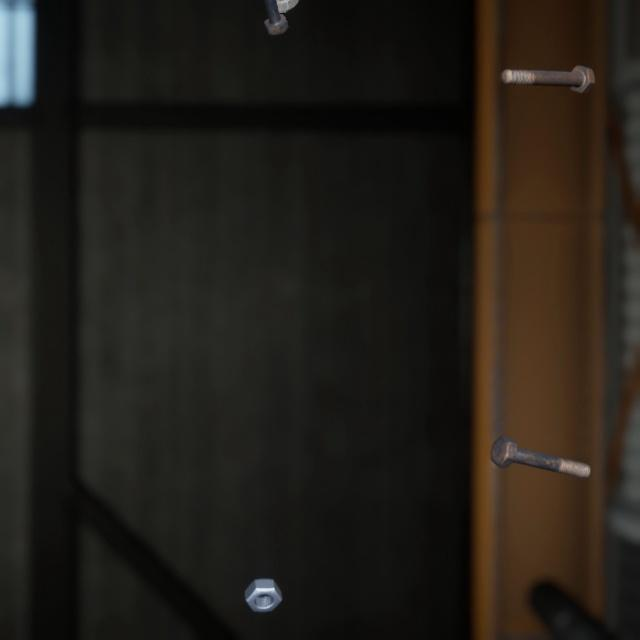bolt: (486, 410, 595, 462), (495, 50, 599, 87), (259, 0, 293, 32)
nut: (240, 550, 286, 593)
